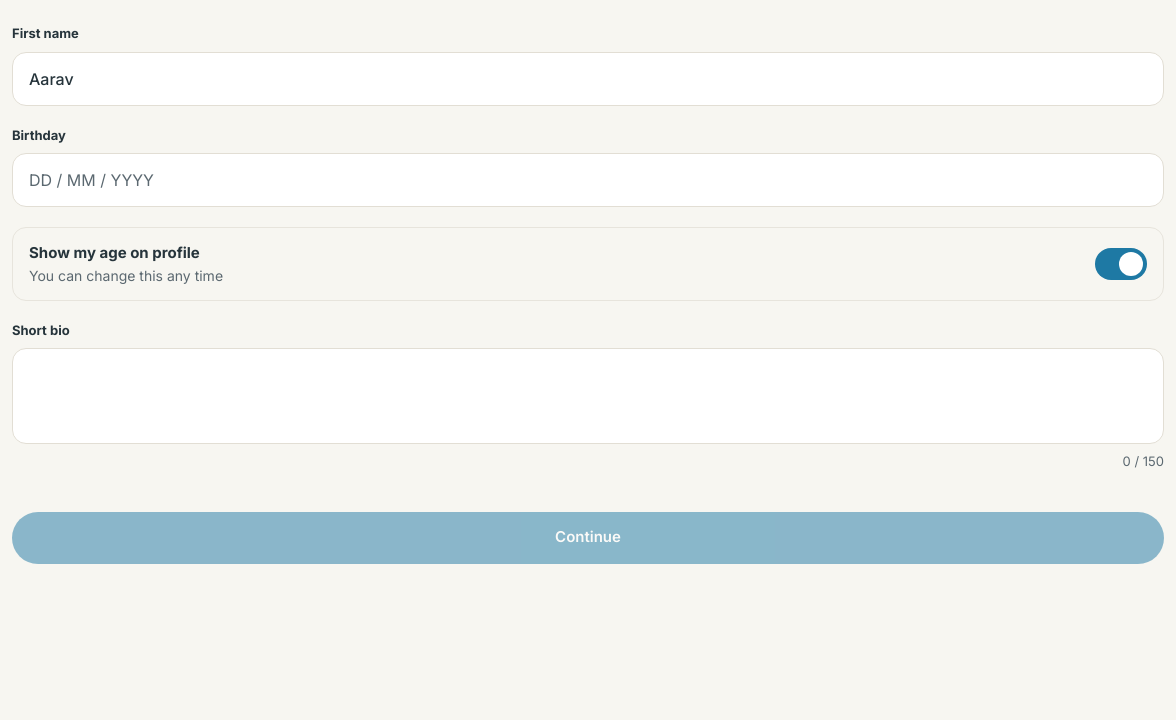
Test case: S03 AboutForm › shows a live bio counter and the show-age switch (default on)
Click the switch named "Show my age on profile": (1121, 264) [1095,248,1147,280]
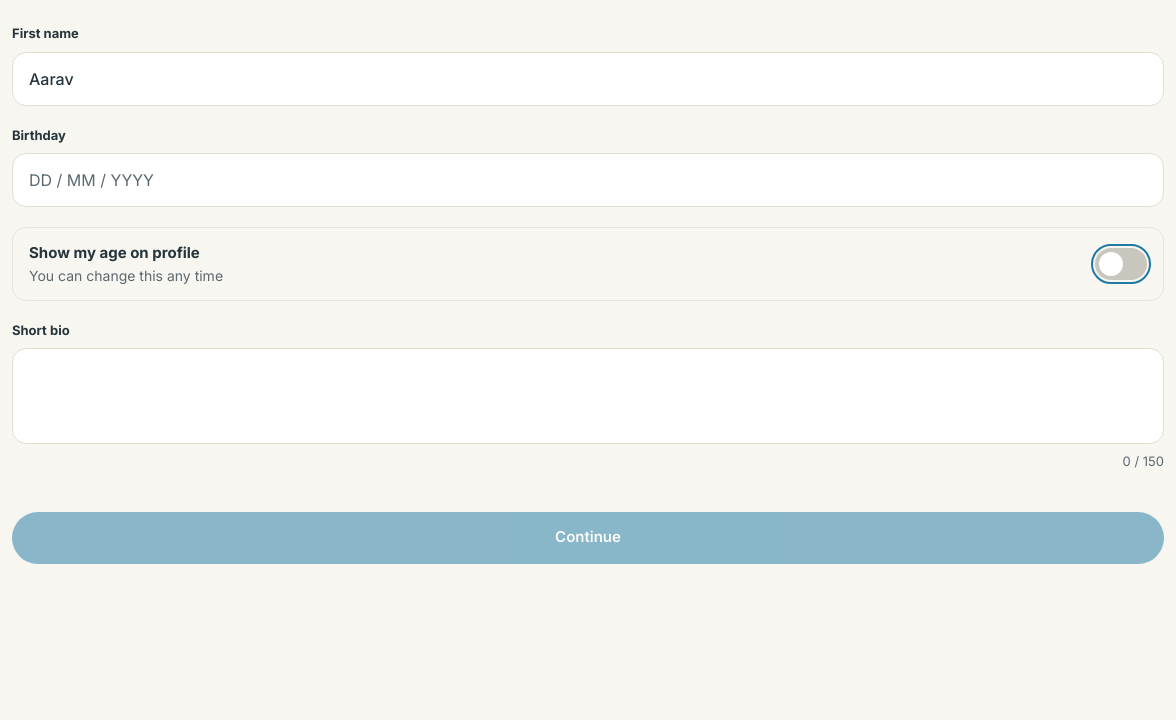
Expected: the text "0 / 150" is shown, [1123,452,1164,472]
Expected: the switch named "Show my age on profile" is not checked, [1095,248,1147,280]
In the text box labelled "Short bio": (588, 396) [12,348,1164,444], type "Weekend badminton"
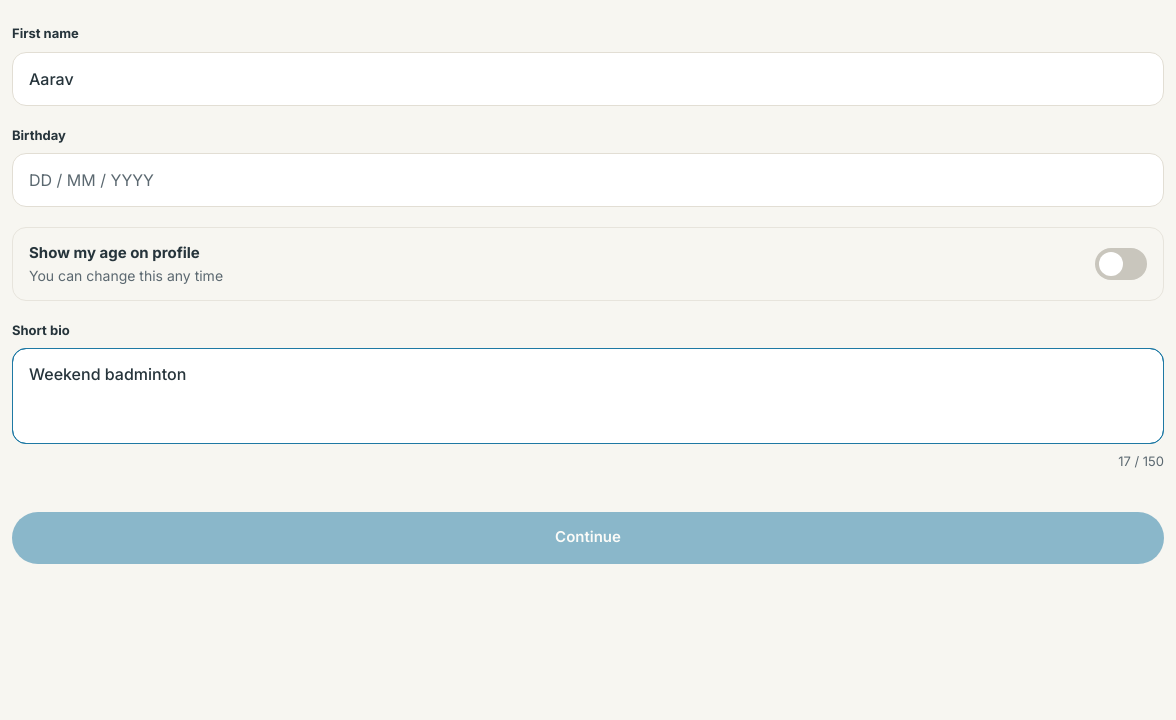
Expected: the text "17 / 150" is shown, [1118,452,1164,472]
